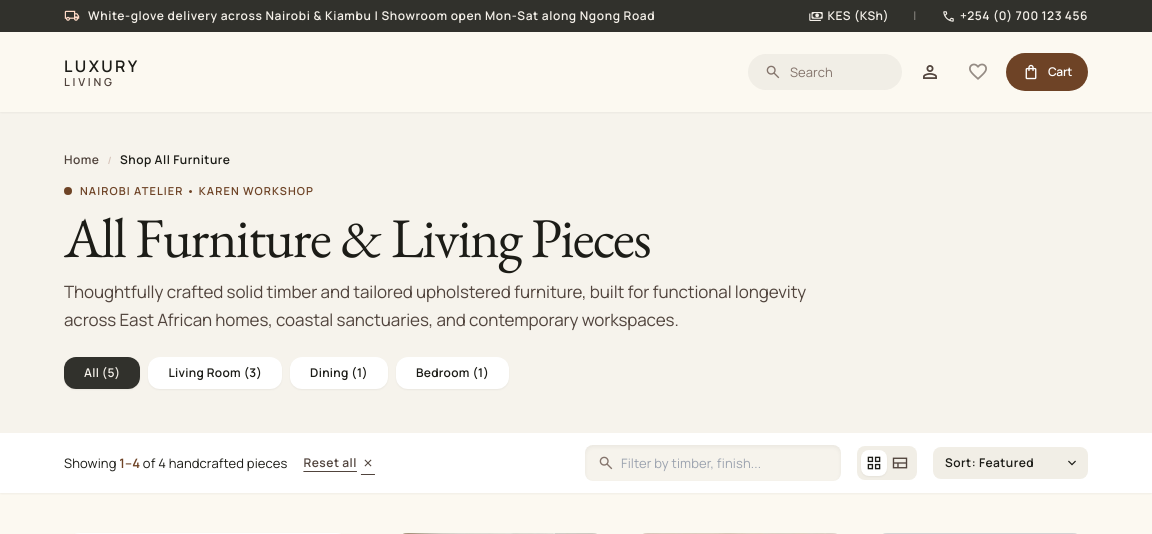
Test: moving between pages › goes back home from the shop breadcrumb
Click the link "Home" at (82, 160), box [64, 152, 99, 168]
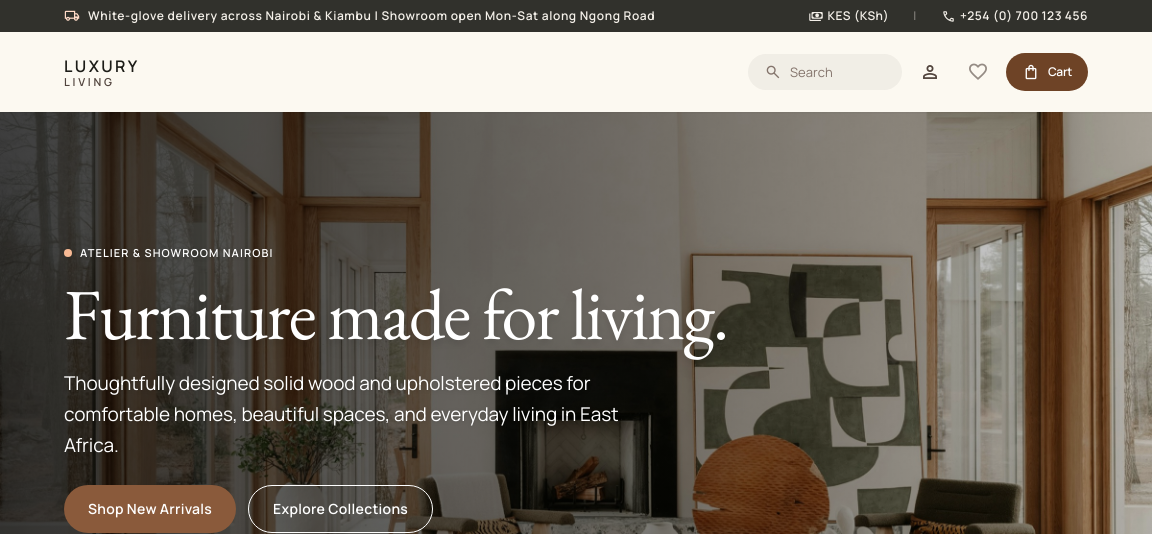
Check: the heading "Furniture made for living." is shown, box [64, 276, 832, 352]
